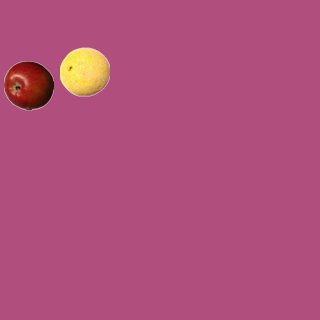Apple Braeburn: (3, 60, 53, 110)
Cantaloupe 1: (59, 46, 109, 96)
